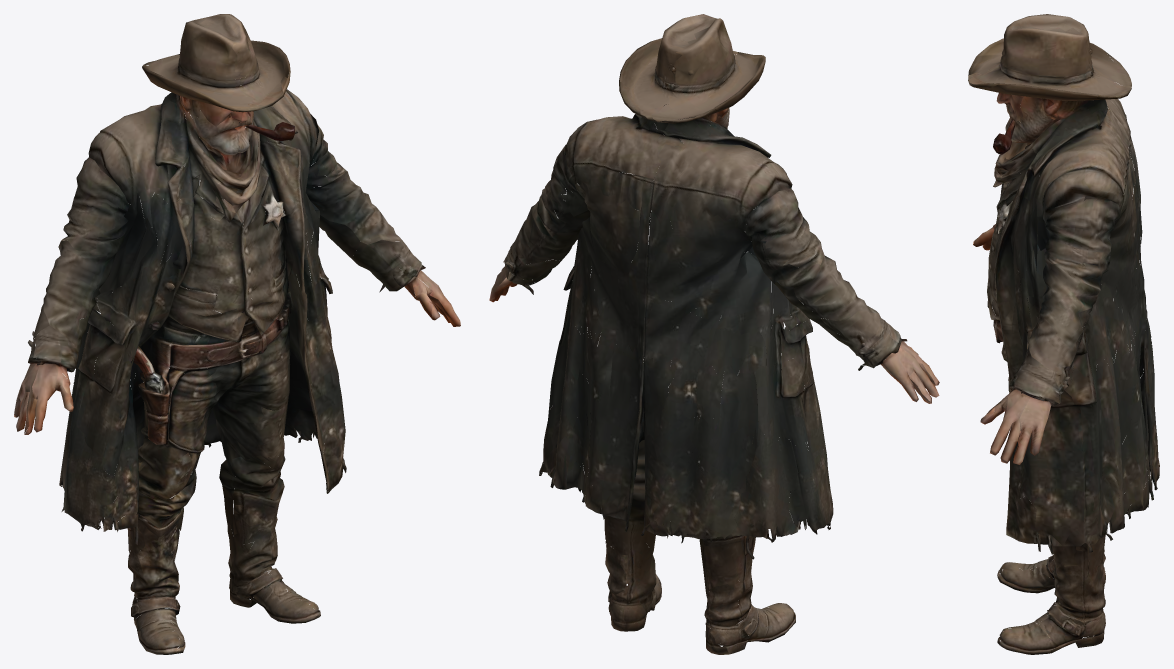
Rendered from sheriff.glb.
The picture shows the model from 3 angles, left to right: view 1: azimuth 30°, elevation 25°; view 2: azimuth 150°, elevation 25°; view 3: azimuth 270°, elevation 25°; orthographic projection.
Parts seen in each view (by area): view 1: tripo_node_8e43f67e-cb67-440e-a933-873676200b46; view 2: tripo_node_8e43f67e-cb67-440e-a933-873676200b46; view 3: tripo_node_8e43f67e-cb67-440e-a933-873676200b46.
Part boxes in pixels (<box>): tripo_node_8e43f67e-cb67-440e-a933-873676200b46: <box>14,14,460,654</box>; tripo_node_8e43f67e-cb67-440e-a933-873676200b46: <box>489,14,939,654</box>; tripo_node_8e43f67e-cb67-440e-a933-873676200b46: <box>968,14,1159,654</box>.
Size of the model in its own units: 0.7121 by 0.9291 by 0.2717.
Materials: 1 (1 with a texture image).
